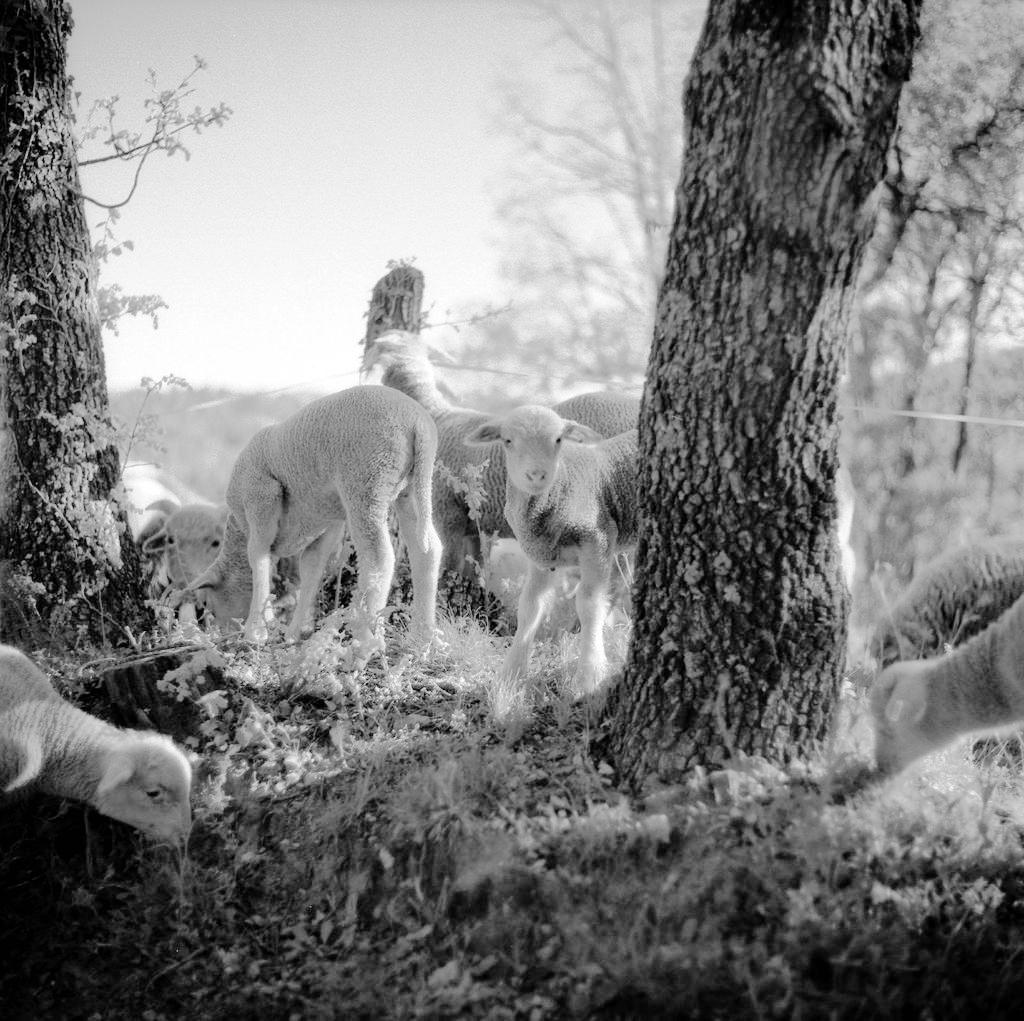Sheep: (185, 366, 468, 682), (354, 321, 644, 610), (466, 392, 654, 692), (0, 658, 208, 886), (855, 632, 1024, 818), (864, 531, 1024, 687)
